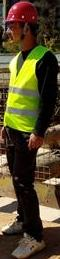boots: (1, 217, 24, 234), (0, 216, 16, 233)
gloves: (0, 58, 13, 80)
hard-hat: (3, 1, 37, 24)
vest: (0, 42, 26, 126)
